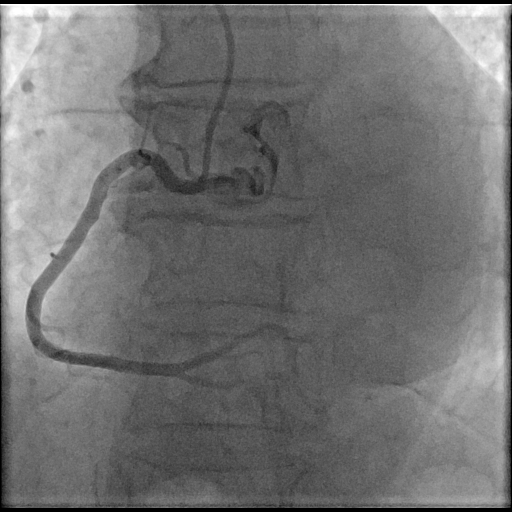RCA: (25, 148, 274, 374)
catherter: (202, 4, 234, 176)
